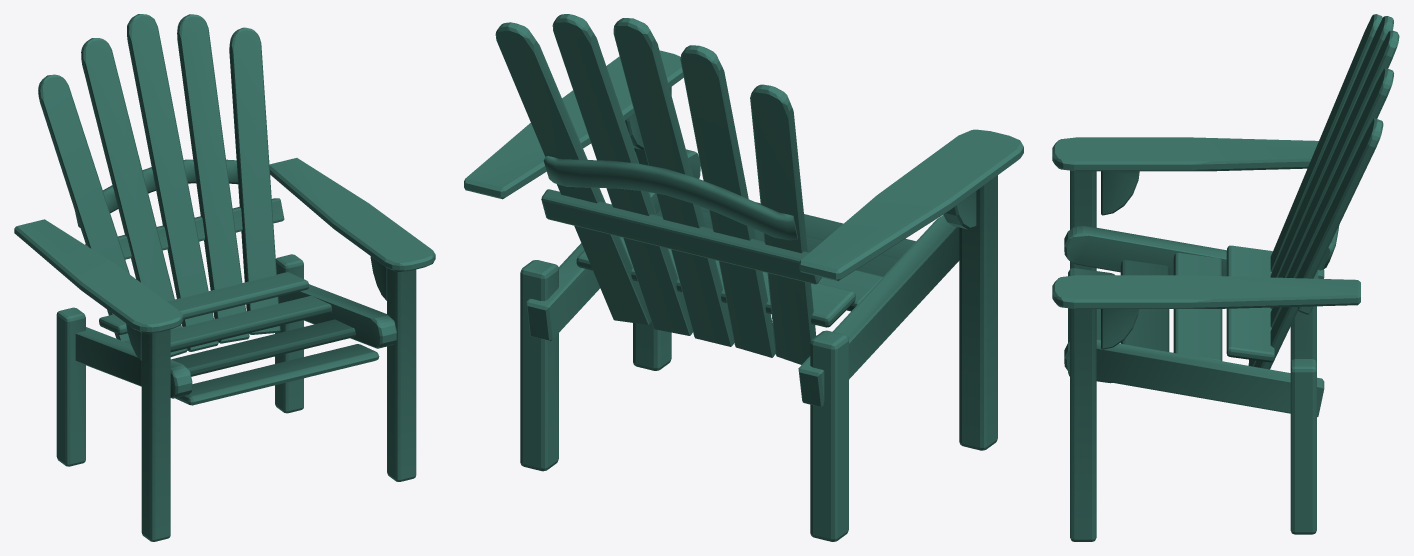
Rendered from adirondackChair.glb.
3 views of the same model, side by side, from view 1: azimuth 30°, elevation 25°; view 2: azimuth 150°, elevation 25°; view 3: azimuth 270°, elevation 25° (orthographic). The views are drawn at different scales.
Parts seen in each view (by area): view 1: adirondackChair; view 2: adirondackChair; view 3: adirondackChair.
Boxes of the visible parts, x1,y1,x2,y2 form: adirondackChair: [14, 14, 435, 541]; adirondackChair: [464, 14, 1023, 541]; adirondackChair: [1052, 14, 1399, 541].
Bounding box in the file's own units: 0.88 × 1.1 × 0.7872.
